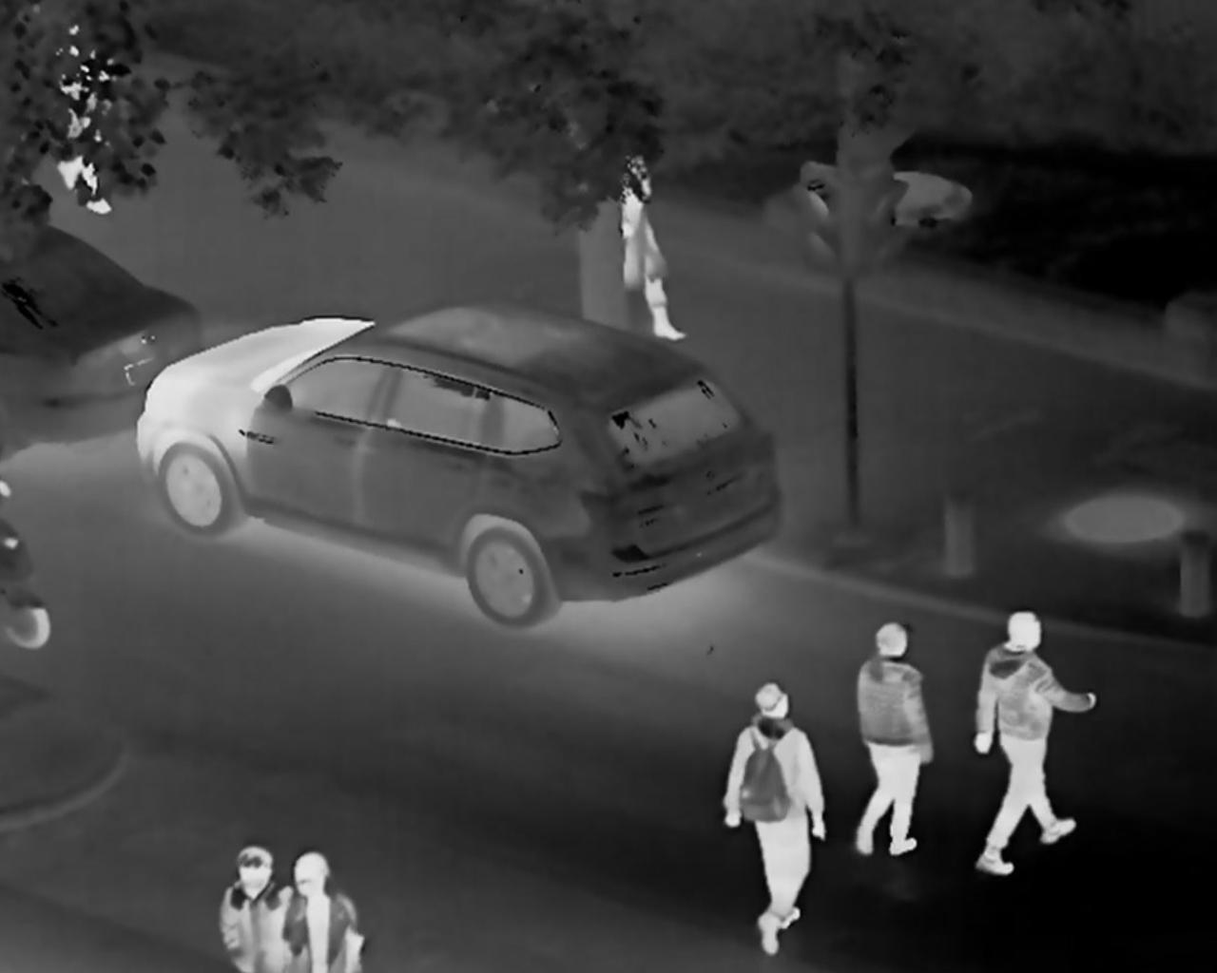person: (976, 577, 1112, 891), (719, 689, 818, 973), (850, 588, 930, 896), (610, 157, 719, 355), (215, 843, 288, 973), (287, 847, 356, 973)
